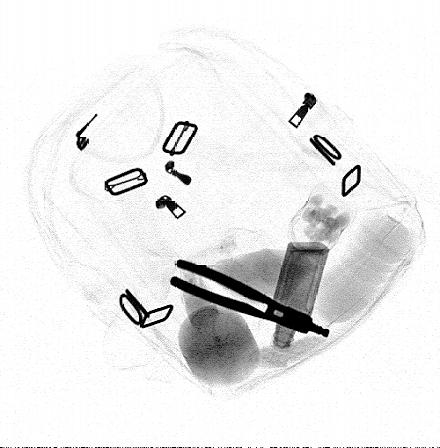Pliers: (168, 259, 332, 339)
